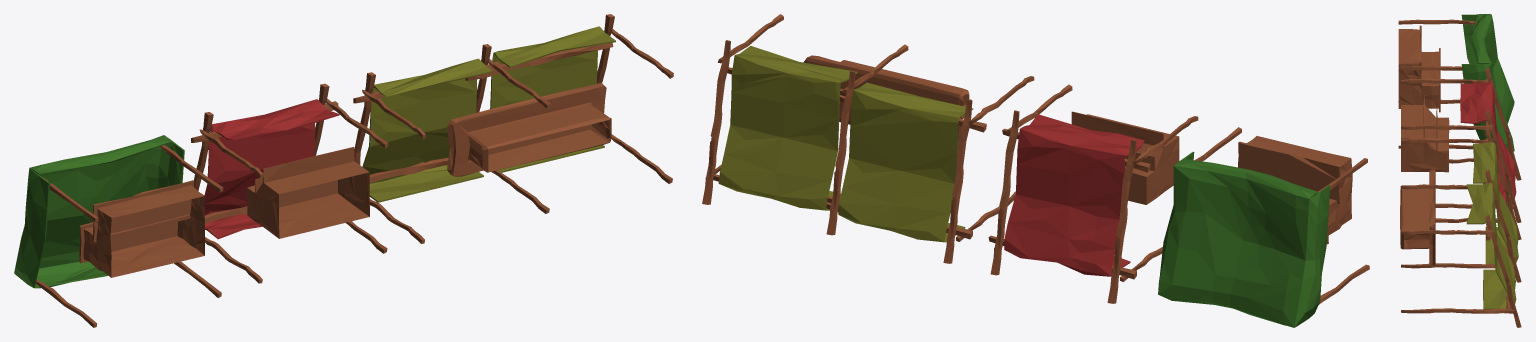
Rendered from bazar.FBX.
3 views of the same model, side by side, from view 1: azimuth 30°, elevation 25°; view 2: azimuth 150°, elevation 25°; view 3: azimuth 270°, elevation 25° (orthographic). The views are drawn at different scales.
Parts seen in each view (by area): view 1: booth_three, booth_one, booth_two; view 2: booth_three, booth_one, booth_two; view 3: booth_three, booth_two, booth_one.
Part boxes in pixels (<box>): booth_three: <box>353,14,673,243</box>; booth_one: <box>14,135,223,327</box>; booth_two: <box>191,83,388,283</box>; booth_three: <box>702,14,1034,263</box>; booth_one: <box>1158,127,1369,327</box>; booth_two: <box>988,84,1198,303</box>; booth_three: <box>1400,127,1521,327</box>; booth_two: <box>1401,67,1521,222</box>; booth_one: <box>1398,14,1514,151</box>.
Size of the model in its own units: 1393 by 331 by 332.
